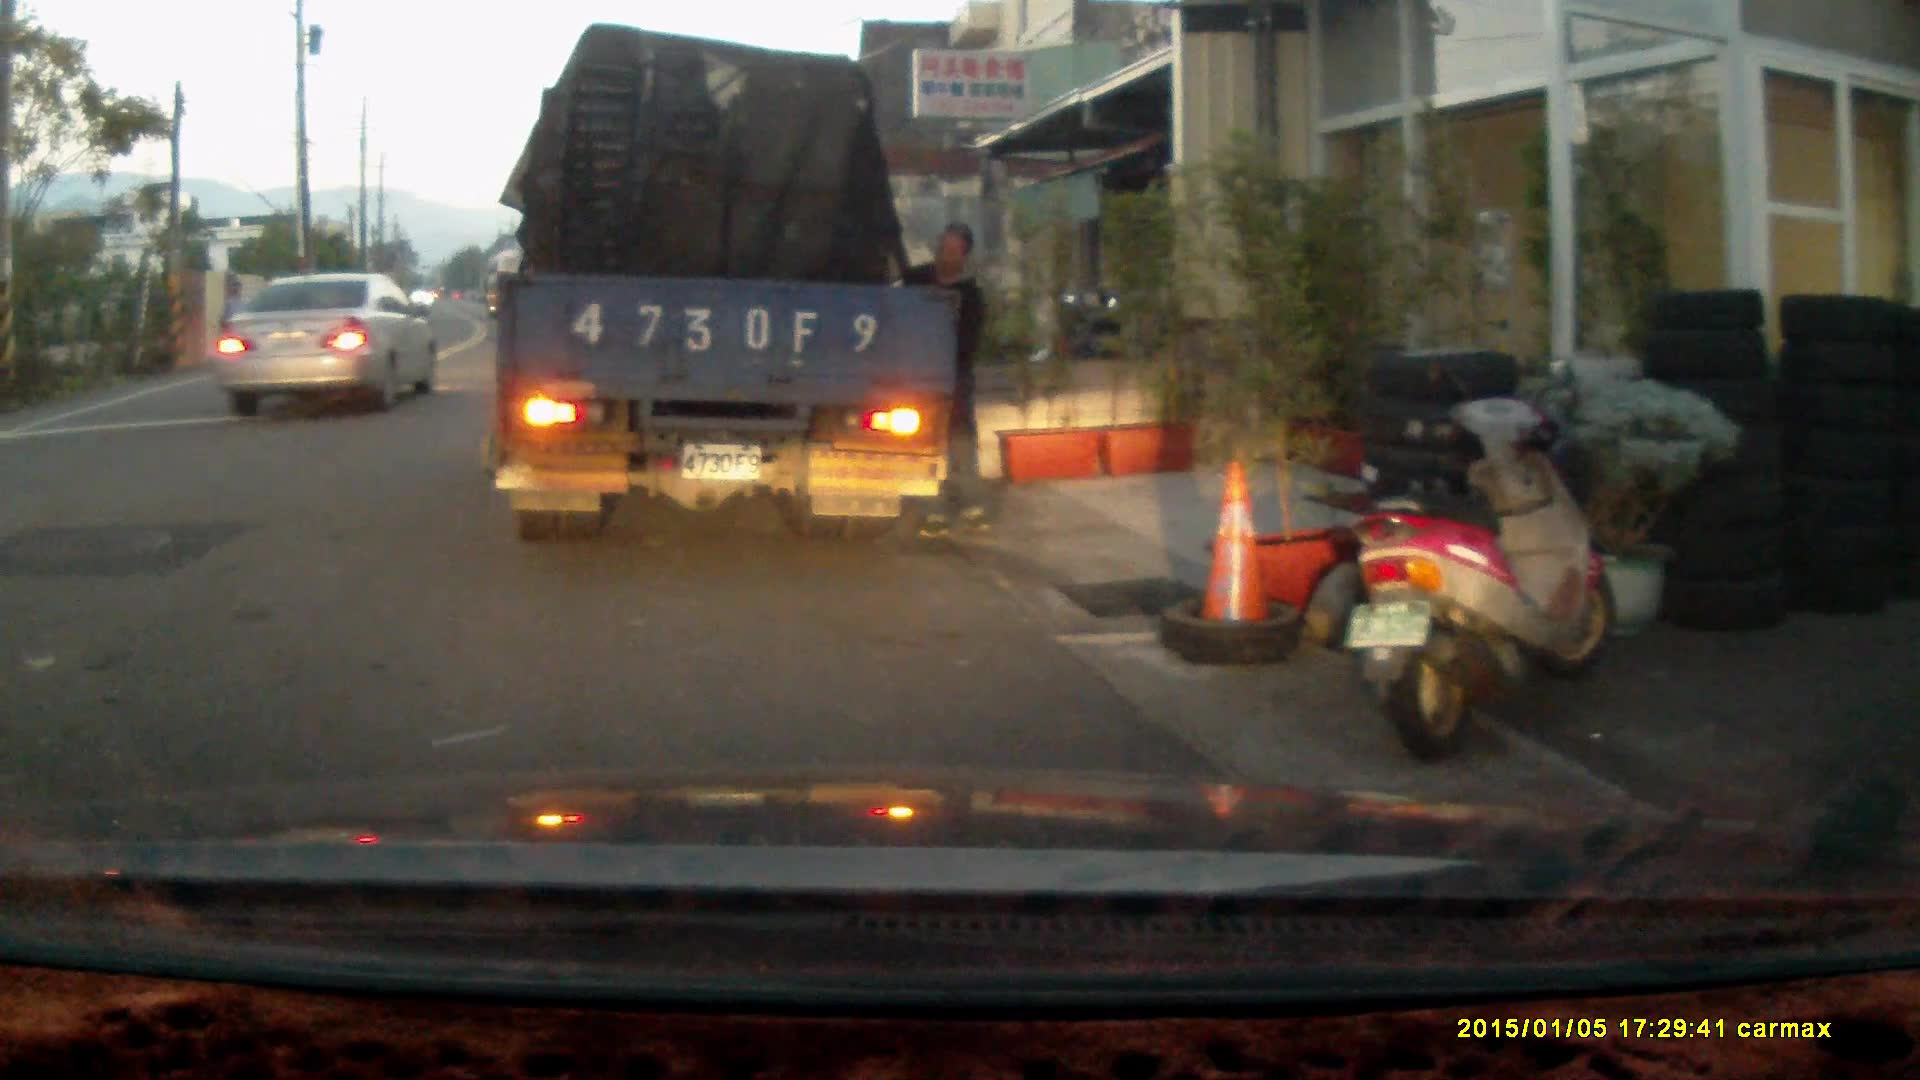pedestrian: (900, 219, 991, 540), (211, 276, 250, 368)
vehicle: (502, 30, 969, 541), (221, 271, 445, 417)
